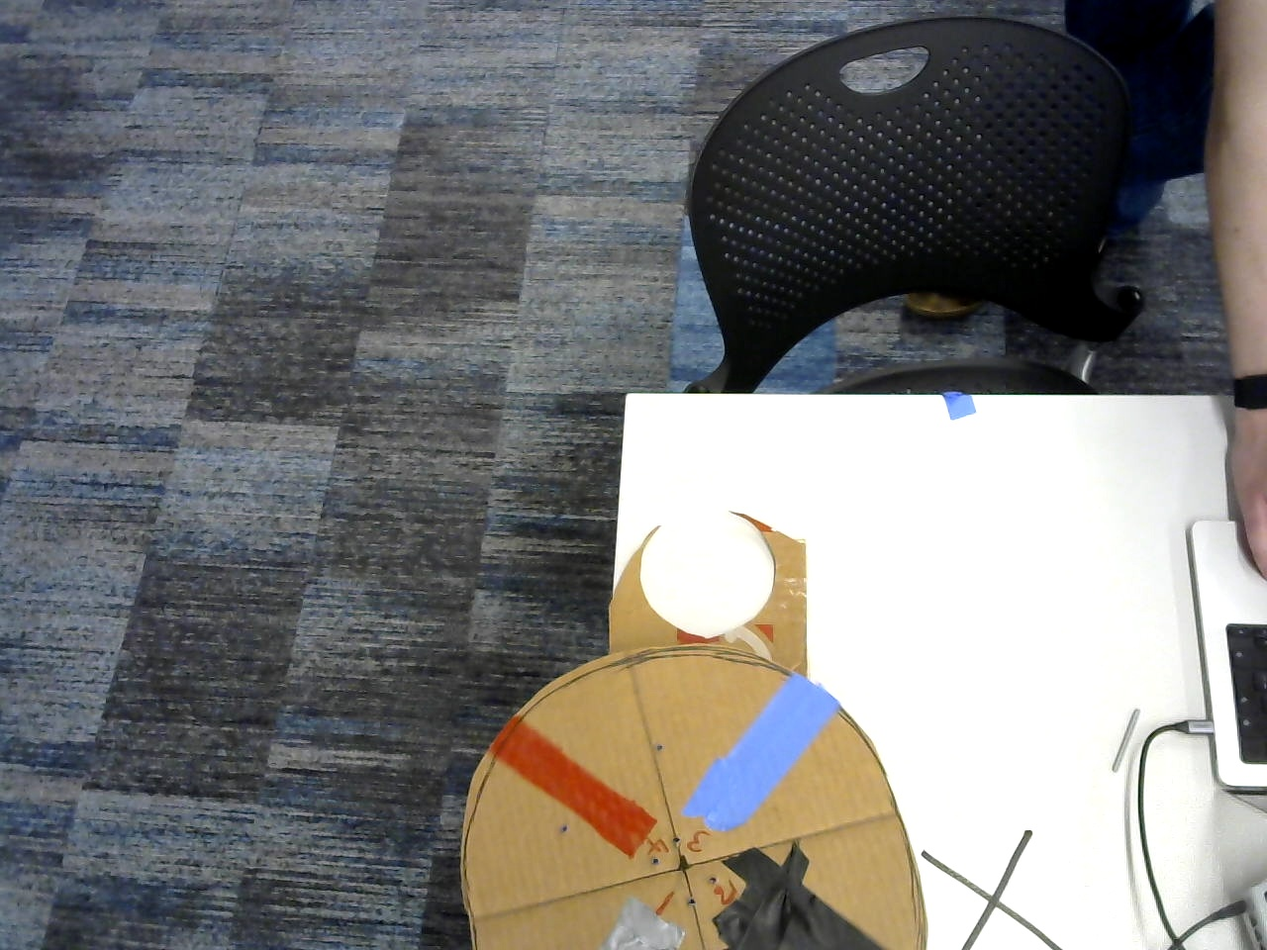black: (716, 848, 900, 950)
blue: (682, 675, 839, 832)
red: (488, 718, 658, 858)
silver: (537, 895, 692, 950)
x: (929, 831, 1050, 950)
